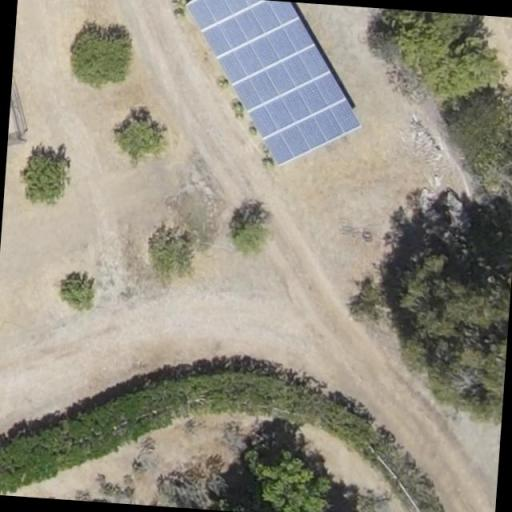solar-panel: (185, 0, 362, 166)
